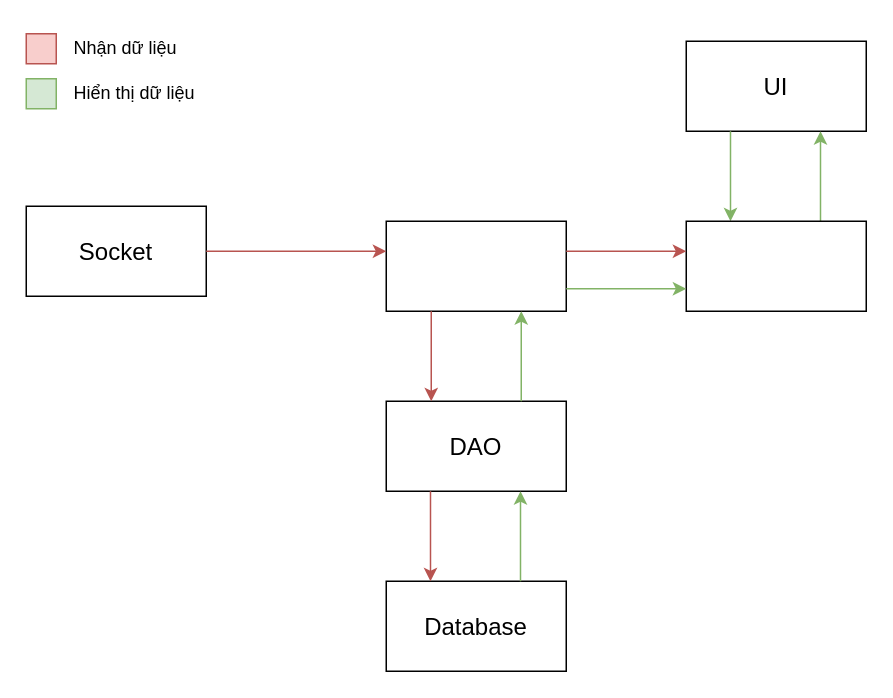
The diagram is 893 pixels wide and 698 high, and some of its shapes have lost their labels. Each missing label, with the centre of its shape:
"Provider" belongs at (x=475, y=265).
"QMap" belongs at (x=775, y=265).
